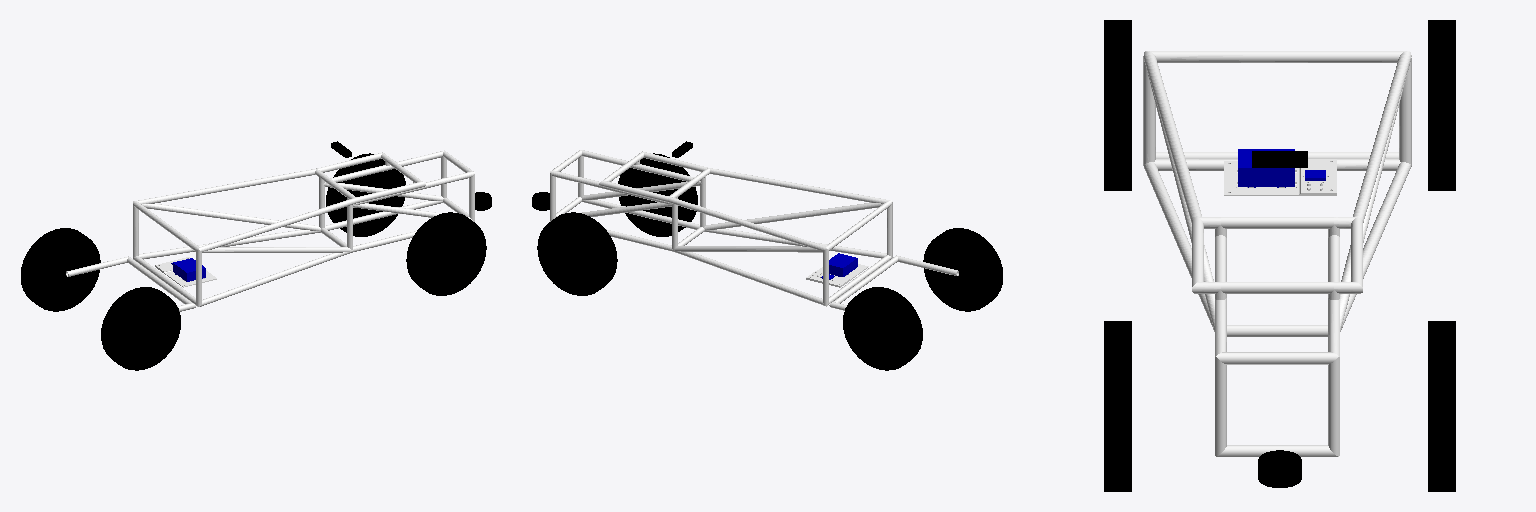
The robot description file, URDF, robot "myfirst":
<?xml version="1.0" encoding="utf-8"?>
<robot name="myfirst">

<material name="white">
    <color rgba="1 1 1 1"/>
  </material> 

<material name="blue">
    <color rgba="0 0 0.8 1"/>
  </material>

<material name="red">
  <color rgba="1 0 0 1"/>     
</material>

<material name="green">
  <color rgba="0 1 0 1"/>     
</material>

<material name="black">
  <color rgba="0 0 0 1"/>   
</material>

<material name="gray">
  <color rgba="0.5 0.5 0.5 1"/>  
</material>

<material name="yellow">
  <color rgba="1 1 0 1"/>     
</material>


<material name="silver">
  <color rgba="0.75 0.75 0.75 1"/>  
</material>

<material name="gold">
  <color rgba="1 0.84 0 1"/>   
</material>

<material name="orange">
  <color rgba="1 0.65 0 1"/>    
</material>

<material name="cyan">
  <color rgba="0 1 1 1"/>     
</material>

<material name="magenta">
  <color rgba="1 0 1 1"/>      
</material>


<material name="dark_green">
  <color rgba="0 0.5 0 1"/>    
</material>

<material name="navy_blue">
  <color rgba="0 0 0.5 1"/>    
</material>


<material name="glass">
  <color rgba="0.9 0.9 1 0.3"/>  
</material>


  <link name="base_link">
  </link>

  <link name="car_frame_link">
    <visual>
    <!-- <origin rpy="0 0 0" xyz="-0.29 -0.24 0.15"/> -->
    <origin rpy="0 0 0" xyz="-0.29 -0.24 0"/>
      <geometry>
        <mesh filename="package://my_urdf/models/base_frame.STL"/>
      </geometry>
      <material name="white"/>
    </visual>
  </link>

  <link name="controller_base_link"> 
    <visual>
        <origin rpy="0 0 0" xyz="0.0 -0.1 0"/>
        <geometry>
          <mesh filename="package://my_urdf/models/jetson_base.STL"/>
        </geometry>
        <material name="white"/>
    </visual> 
  </link>

  <link name="imu_link"> 
    <visual>
        <origin rpy="0 0 0" xyz="0.0 0 0"/>
        <geometry>
          <box size="0.036 0.036 0.012"/>
        </geometry>
        <material name="blue"/>
    </visual> 
 </link>

  <link name="jetson_link"> 
    <visual>
        <origin rpy="0 0 0" xyz="0.0 0 0"/>
        <geometry>
          <box size="0.0787 0.1 0.04"/>
        </geometry>
        <material name="blue"/>
    </visual> 
  </link>

  <link name="gps_link"> 
    <visual>
        <origin rpy="0 0 0" xyz="0.0 0 0"/>
        <geometry>
          <box size="0.025 0.025 0.005"/>
        </geometry>
        <material name="blue"/>
    </visual> 
  </link>

  <link name="camera_link"> 
    <visual>
        <origin rpy="0 0 0" xyz="0.0 0 0"/>
        <geometry>
          <box size="0.025 0.1 0.02"/>
        </geometry>
        <material name="black"/>
    </visual> 
  </link>

  <link name="laser"> 
    <visual>
        <origin rpy="0 0 0" xyz="0.0 0 0"/>
        <geometry>
          <cylinder length="0.038" radius="0.038"/>
        </geometry>
        <material name="black"/>
    </visual> 
  </link>

  <link name="wheel1_link"> 
    <visual>
        <origin rpy="1.57075 0 0" xyz="0.0 0 0"/>
        <geometry>
          <cylinder length="0.05" radius="0.15"/>
        </geometry>
        <material name="black"/>
    </visual> 
  </link>

  <link name="wheel2_link"> 
    <visual>
        <origin rpy="1.57075 0 0" xyz="0.0 0 0"/>
        <geometry>
          <cylinder length="0.05" radius="0.15"/>
        </geometry>
        <material name="black"/>
    </visual> 
  </link>

  <link name="wheel3_link"> 
    <visual>
        <origin rpy="1.57075 0 0" xyz="0.0 0 0"/>
        <geometry>
          <cylinder length="0.05" radius="0.15"/>
        </geometry>
        <material name="black"/>
    </visual> 
  </link>

  <link name="wheel4_link"> 
    <visual>
        <origin rpy="1.57075 0 0" xyz="0.0 0 0"/>
        <geometry>
          <cylinder length="0.05" radius="0.15"/>
        </geometry>
        <material name="black"/>
    </visual> 
  </link>
  
  

  <joint name="base_link_to_frame" type="fixed">
    <parent link="base_link"/>
    <child link="car_frame_link"/>
    <origin xyz="-0.545 0.0 0.15"/>
  </joint>

  <joint name="car_frame_to_controller_base" type="fixed">
    <parent link="car_frame_link"/>
    <child link="controller_base_link"/>
    <origin xyz="0 0.0 0.02"/>
  </joint>

  <joint name="controller_base_to_jetson" type="fixed">
    <parent link="controller_base_link"/>
    <child link="jetson_link"/>
    <origin xyz="0.07 -0.023 0.02"/>
  </joint>

  <joint name="controller_base_to_imu" type="fixed">
    <parent link="controller_base_link"/>
    <child link="imu_link"/>
    <origin rpy="0 0 3.141593" xyz="0.073 0.062 0.006"/>
  </joint>

  <joint name="controller_base_to_gps" type="fixed">
    <parent link="controller_base_link"/>
    <child link="gps_link"/>
    <origin xyz="0.12 0.062 0.0025"/>
  </joint>

   <joint name="controller_base_to_camera" type="fixed">
    <parent link="controller_base_link"/>
    <child link="camera_link"/>
    <origin xyz="0.705 0 0.335"/>
  </joint>

  <joint name="controller_base_to_lidar" type="fixed">
    <parent link="controller_base_link"/>
    <child link="laser"/>
    <origin rpy="0 0 3.141593" xyz="1.275 0 0"/>
  </joint>
  
  <joint name="car_frame_to_wheel1" type="fixed">
    <parent link="car_frame_link"/>
    <child link="wheel1_link"/>
    <origin xyz="0.97 0.285 0"/>
  </joint>

  <joint name="car_frame_to_wheel2" type="fixed">
    <parent link="car_frame_link"/>
    <child link="wheel2_link"/>
    <origin xyz="0.97 -0.285 0"/>
  </joint>

  <joint name="car_frame_to_wheel3" type="fixed">
    <parent link="car_frame_link"/>
    <child link="wheel3_link"/>
    <origin xyz="-0.28 0.285 0"/>
  </joint>

  <joint name="car_frame_to_wheel4" type="fixed">
    <parent link="car_frame_link"/>
    <child link="wheel4_link"/>
    <origin xyz="-0.28 -0.285 0"/>
  </joint>

</robot>

--- What the picture shows (computed from the rendered views, not written in the file) ---
3 views of the same robot in one strip: view 1: azimuth 30°, elevation 25°; view 2: azimuth 150°, elevation 25°; view 3: azimuth 270°, elevation 25° (orthographic).
Robot: myfirst — 12 links, 11 joints (11 fixed); root link base_link; default pose: every joint at zero.
Links seen in each view (by area): view 1: car_frame_link, wheel4_link, wheel2_link, wheel3_link, wheel1_link; view 2: car_frame_link, wheel3_link, wheel1_link, wheel4_link, wheel2_link, jetson_link; view 3: car_frame_link, wheel1_link, wheel2_link, wheel3_link, wheel4_link, controller_base_link, laser, jetson_link, camera_link.
Link boxes in pixels (left/top/right/bottom): car_frame_link: left=66, top=150, right=474, bottom=311; wheel4_link: left=101, top=287, right=180, bottom=370; wheel2_link: left=406, top=212, right=486, bottom=295; wheel3_link: left=21, top=228, right=100, bottom=311; wheel1_link: left=326, top=153, right=405, bottom=236; car_frame_link: left=550, top=150, right=958, bottom=310; wheel3_link: left=843, top=287, right=922, bottom=370; wheel1_link: left=537, top=212, right=617, bottom=295; wheel4_link: left=923, top=228, right=1002, bottom=311; wheel2_link: left=618, top=153, right=697, bottom=236; jetson_link: left=829, top=253, right=857, bottom=276; car_frame_link: left=1143, top=51, right=1411, bottom=456; wheel1_link: left=1428, top=321, right=1455, bottom=491; wheel2_link: left=1104, top=321, right=1131, bottom=491; wheel3_link: left=1428, top=20, right=1455, bottom=190; wheel4_link: left=1104, top=20, right=1131, bottom=190; controller_base_link: left=1224, top=159, right=1336, bottom=195; laser: left=1258, top=450, right=1301, bottom=487; jetson_link: left=1238, top=149, right=1294, bottom=187; camera_link: left=1252, top=151, right=1307, bottom=167.
Size in the robot's own frame: 1.74 by 0.62 by 0.515 metres.
Meshes: 2 distinct files referenced, 2 mesh visuals loaded (2 binary STL).
